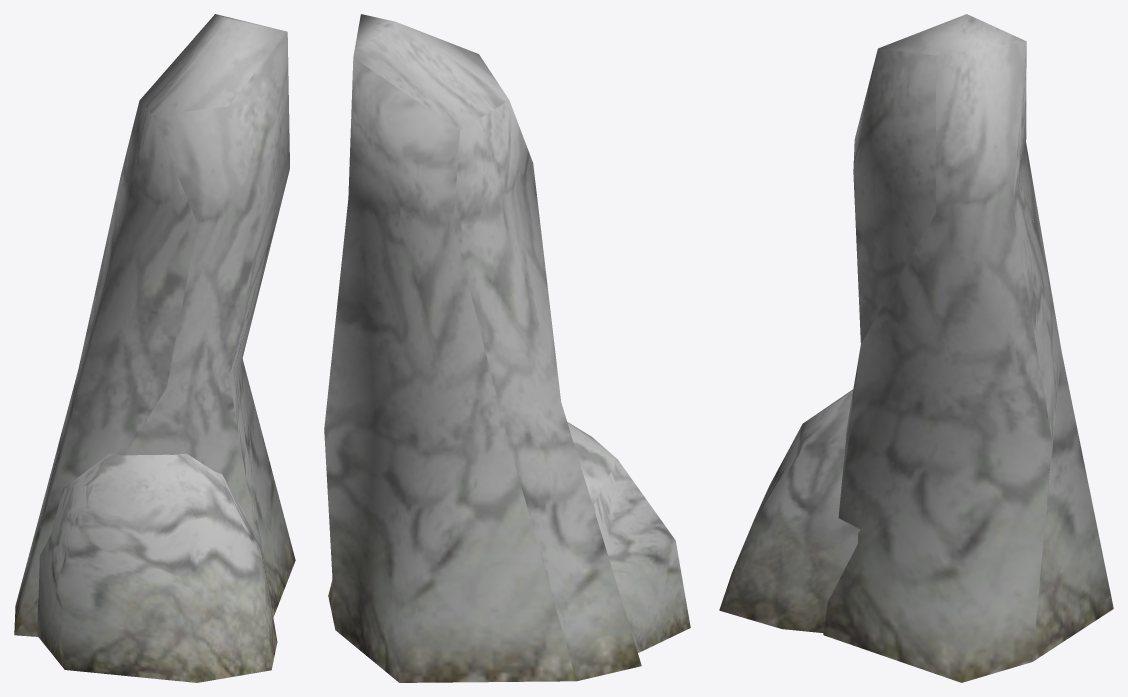
Rendered from general_obj_bigstone03.fbx.
3 renders of one model, left to right at view 1: azimuth 30°, elevation 25°; view 2: azimuth 150°, elevation 25°; view 3: azimuth 270°, elevation 25°, orthographic. The views are drawn at different scales.
Parts seen in each view (by area): view 1: Sphere01; view 2: Sphere01; view 3: Sphere01.
Boxes of the visible parts, box(x1,y1,x2,y2) form: Sphere01: box(14, 14, 295, 682); Sphere01: box(324, 14, 690, 682); Sphere01: box(719, 14, 1113, 682).
Size of the model in its own units: 12.51 by 23.1 by 13.05.
